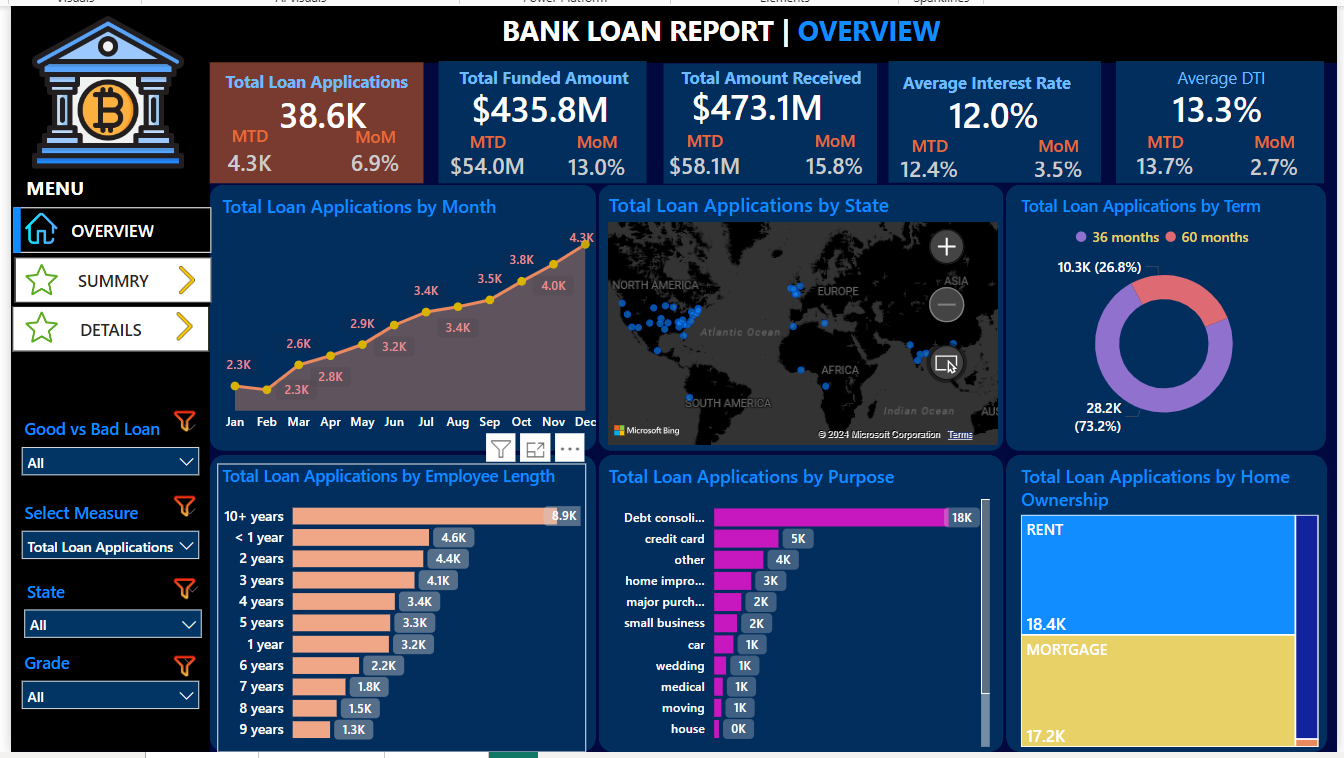

What the dashboard file says about the page in this screenshot:
{"tool":"powerbi","page":{"name":"OVERVIEW","canvas":[1280,720],"ordinal":1},"visuals":[{"type":"shape","box":[0,0,1280.3,54.9],"z":0},{"type":"shape","box":[412,53.1,200.9,118],"z":0,"group":"g2"},{"type":"shape","box":[847,53.1,205.2,117.4],"z":0,"group":"g4"},{"type":"shape","box":[1066.1,53.1,200.9,118],"z":0,"group":"g5"},{"type":"shape","box":[191.8,54.3,206.3,117],"z":0,"group":"g1"},{"type":"shape","box":[628.9,54.9,206,116.2],"z":0,"group":"g3"},{"type":"card","title":"Total Loan Applications","fields":{"Values":["Bank_loan_Data.Total Amount Received"]},"box":[647.8,76.1,144.2,43.1],"z":1000,"group":"g3"},{"type":"card","title":"Total Loan Applications","fields":{"Values":["Bank_loan_Data.Total Funded Amount"]},"box":[431.3,78.6,157.1,41.7],"z":1000,"group":"g2"},{"type":"card","title":"Total Loan Applications","fields":{"Values":["Bank_loan_Data.Avg DTI"]},"box":[1085.4,78.6,157.1,41.7],"z":1000,"group":"g5"},{"type":"card","title":"Total Loan Applications","fields":{"Values":["Bank_loan_Data.Total Loan Applications"]},"box":[237.3,82.7,126.6,44.3],"z":1000,"group":"g1"},{"type":"card","title":"Total Loan Applications","fields":{"Values":["Bank_loan_Data.Avg Interest Rate"]},"box":[884.1,85.2,128.2,39.4],"z":1000,"group":"g4"},{"type":"shape","box":[191.8,172.5,372.8,257],"z":1000},{"type":"textbox","box":[632.8,53.1,200.8,39.4],"z":2000,"group":"g3"},{"type":"textbox","box":[412,53.6,203.4,46.5],"z":2000,"group":"g2"},{"type":"textbox","box":[1066.1,53.6,203.4,46.5],"z":2000,"group":"g5"},{"type":"shape","box":[0,54.9,192.1,665.5],"z":2000},{"type":"textbox","box":[192.3,56.9,206.3,34],"z":2000,"group":"g1"},{"type":"textbox","box":[848.7,57.6,187.5,31.8],"z":2000,"group":"g4"},{"type":"textbox","box":[334.8,0,699.8,54.9],"z":3000},{"type":"card","title":"MTD","fields":{"Values":["Bank_loan_Data.MTD Loan Applications"]},"box":[198.8,113.9,62.6,57.9],"z":3000,"group":"g1"},{"type":"card","title":"MTD","fields":{"Values":["Bank_loan_Data.MTD Total Amount Received"]},"box":[628,117.7,81.9,53.2],"z":3000,"group":"g3"},{"type":"card","title":"MTD","fields":{"Values":["Bank_loan_Data.MTD Funded Amount"]},"box":[410,119.1,99.6,51.5],"z":3000,"group":"g2"},{"type":"card","title":"MTD","fields":{"Values":["Bank_loan_Data.MTD Avg DTI"]},"box":[1064.1,119.1,99.6,51.5],"z":3000,"group":"g5"},{"type":"card","title":"MTD","fields":{"Values":["Bank_loan_Data.MTD Avg Int Rate"]},"box":[845.9,122.8,81.5,48.3],"z":3000,"group":"g4"},{"type":"group","id":"g1","title":"Group 1","box":[191.8,54.3,206.3,118.2],"z":4000},{"type":"card","title":"MoM","fields":{"Values":["Bank_loan_Data.MoM Loan Applications"]},"box":[307,114,90.4,55.3],"z":4000,"group":"g1"},{"type":"card","title":"MoM","fields":{"Values":["Bank_loan_Data.MoM Total Amount Received"]},"box":[753.3,117.7,81.9,53.2],"z":4000,"group":"g3"},{"type":"card","title":"MoM","fields":{"Values":["Bank_loan_Data.MoM Total Funded Amount"]},"box":[515,119.1,100.4,52.4],"z":4000,"group":"g2"},{"type":"card","title":"MoM","fields":{"Values":["Bank_loan_Data.MoM Avg DTI"]},"box":[1169.1,119.1,100.4,52.4],"z":4000,"group":"g5"},{"type":"card","title":"MoM","fields":{"Values":["Bank_loan_Data.MoM Avg Int Rate"]},"box":[970.5,122.8,81.5,48.3],"z":4000,"group":"g4"},{"type":"group","id":"g2","title":"Group 1","box":[410,53.1,206,118],"z":5000},{"type":"group","id":"g3","title":"Group 1","box":[628,53.1,206,118],"z":6000},{"type":"group","id":"g4","title":"Group 1","box":[845.9,53.1,206.3,118],"z":7000},{"type":"group","id":"g5","title":"Group 1","box":[1064.1,53.1,206,118],"z":8000},{"type":"slicer","fields":{"Values":["Bank_loan_Data.address_state"]},"box":[2.4,548.9,191.8,76],"z":9000},{"type":"slicer","fields":{"Values":["Bank_loan_Data.grade"]},"box":[0,617.7,191.8,76],"z":10000},{"type":"slicer","fields":{"Values":["Bank_loan_Data.Good Loan vs Bad Loan"]},"box":[0,392.1,191.8,76],"z":11000},{"type":"lineChart","fields":{"Y":["Bank_loan_Data.Total Loan Applications"],"Category":["Date Table.Month"]},"box":[199.1,181,372.8,238.9],"z":12000},{"type":"slicer","fields":{"Values":["Select Measure.Select Measure"]},"box":[0,472.9,191.8,76],"z":13000},{"type":"shape","box":[567,172.5,390.9,257],"z":14000},{"type":"shape","box":[191.8,433.1,372.8,287.1],"z":15000},{"type":"shape","box":[567,433.1,390.9,287.1],"z":16000},{"type":"shape","box":[960.3,433.1,310.1,287.1],"z":17000},{"type":"shape","box":[960.3,172.5,308.8,257],"z":18000},{"type":"donutChart","title":"Total Loan Applications by Term","fields":{"Y":["Bank_loan_Data.Total Loan Applications"],"Category":["Bank_loan_Data.term"]},"box":[970,181,285.9,238.9],"z":19000},{"type":"treemap","title":"Total Loan Applications by Home Ownership","fields":{"Values":["Bank_loan_Data.Total Loan Applications"],"Group":["Bank_loan_Data.home_ownership"]},"box":[970,441.6,296.8,278.7],"z":20000},{"type":"barChart","title":"Total Loan Applications by Purpose","fields":{"Y":["Bank_loan_Data.Total Loan Applications"],"Category":["Bank_loan_Data.purpose"]},"box":[571.9,441.6,377.6,278.7],"z":21000},{"type":"barChart","title":"Total Loan Applications by Employee Length","fields":{"Y":["Bank_loan_Data.Total Loan Applications"],"Category":["Bank_loan_Data.emp_length"]},"box":[199.1,441.6,355.9,278.7],"z":22000},{"type":"map","title":"Total Loan Applications by State","fields":{"Category":["Bank_loan_Data.address_state"]},"box":[571.9,178.6,386.1,250.9],"z":23000},{"type":"pageNavigator","box":[2.4,194.2,191.8,44.6],"z":24000},{"type":"pageNavigator","box":[3.6,242.5,190.6,44.6],"z":25000},{"type":"pageNavigator","box":[1.2,289.5,190.6,44.6],"z":26000},{"type":"image","box":[3.6,289.5,51.9,41],"z":27000},{"type":"image","box":[3.6,243.7,51.9,41],"z":28000},{"type":"image","box":[138.7,290.8,57.9,37.4],"z":29000},{"type":"image","box":[141.2,246.1,57.9,37.4],"z":30000},{"type":"image","box":[2.4,194.2,53.1,41],"z":31000},{"type":"image","box":[143.6,381.2,48.3,38.6],"z":32000},{"type":"image","box":[143.6,463.3,48.3,38.6],"z":33000},{"type":"image","box":[143.6,542.9,48.3,38.6],"z":34000},{"type":"image","box":[143.6,617.7,48.3,38.6],"z":35000},{"type":"image","box":[9.7,0,167.7,166.5],"z":36000},{"type":"textbox","box":[9.7,158,84.5,36.2],"z":36001}]}

Visuals, with their boxes on the page's 1280x720 design canvas (x1, y1, x2, y2). These are canvas units, not pixel positions in the 1344x758 screenshot, which may show the page scaled, cropped or inside an application window:
shape: bbox(0, 0, 1280, 55)
shape: bbox(412, 53, 613, 171)
shape: bbox(847, 53, 1052, 170)
shape: bbox(1066, 53, 1267, 171)
shape: bbox(192, 54, 398, 171)
shape: bbox(629, 55, 835, 171)
"Total Loan Applications" card: bbox(648, 76, 792, 119)
"Total Loan Applications" card: bbox(431, 79, 588, 120)
"Total Loan Applications" card: bbox(1085, 79, 1242, 120)
"Total Loan Applications" card: bbox(237, 83, 364, 127)
"Total Loan Applications" card: bbox(884, 85, 1012, 125)
shape: bbox(192, 172, 565, 430)
textbox: bbox(633, 53, 834, 92)
textbox: bbox(412, 54, 615, 100)
textbox: bbox(1066, 54, 1270, 100)
shape: bbox(0, 55, 192, 720)
textbox: bbox(192, 57, 399, 91)
textbox: bbox(849, 58, 1036, 89)
textbox: bbox(335, 0, 1035, 55)
"MTD" card: bbox(199, 114, 261, 172)
"MTD" card: bbox(628, 118, 710, 171)
"MTD" card: bbox(410, 119, 510, 171)
"MTD" card: bbox(1064, 119, 1164, 171)
"MTD" card: bbox(846, 123, 927, 171)
"Group 1" group: bbox(192, 54, 398, 172)
"MoM" card: bbox(307, 114, 397, 169)
"MoM" card: bbox(753, 118, 835, 171)
"MoM" card: bbox(515, 119, 615, 172)
"MoM" card: bbox(1169, 119, 1270, 172)
"MoM" card: bbox(970, 123, 1052, 171)
"Group 1" group: bbox(410, 53, 616, 171)
"Group 1" group: bbox(628, 53, 834, 171)
"Group 1" group: bbox(846, 53, 1052, 171)
"Group 1" group: bbox(1064, 53, 1270, 171)
slicer - Bank_loan_Data.address_state: bbox(2, 549, 194, 625)
slicer - Bank_loan_Data.grade: bbox(0, 618, 192, 694)
slicer - Bank_loan_Data.Good Loan vs Bad Loan: bbox(0, 392, 192, 468)
lineChart - Bank_loan_Data.Total Loan Applications x Date Table.Month: bbox(199, 181, 572, 420)
slicer - Select Measure.Select Measure: bbox(0, 473, 192, 549)
shape: bbox(567, 172, 958, 430)
shape: bbox(192, 433, 565, 720)
shape: bbox(567, 433, 958, 720)
shape: bbox(960, 433, 1270, 720)
shape: bbox(960, 172, 1269, 430)
"Total Loan Applications by Term" donutChart: bbox(970, 181, 1256, 420)
"Total Loan Applications by Home Ownership" treemap: bbox(970, 442, 1267, 720)
"Total Loan Applications by Purpose" barChart: bbox(572, 442, 950, 720)
"Total Loan Applications by Employee Length" barChart: bbox(199, 442, 555, 720)
"Total Loan Applications by State" map: bbox(572, 179, 958, 430)
pageNavigator: bbox(2, 194, 194, 239)
pageNavigator: bbox(4, 242, 194, 287)
pageNavigator: bbox(1, 290, 192, 334)
image: bbox(4, 290, 56, 330)
image: bbox(4, 244, 56, 285)
image: bbox(139, 291, 197, 328)
image: bbox(141, 246, 199, 284)
image: bbox(2, 194, 56, 235)
image: bbox(144, 381, 192, 420)
image: bbox(144, 463, 192, 502)
image: bbox(144, 543, 192, 582)
image: bbox(144, 618, 192, 656)
image: bbox(10, 0, 177, 166)
textbox: bbox(10, 158, 94, 194)
